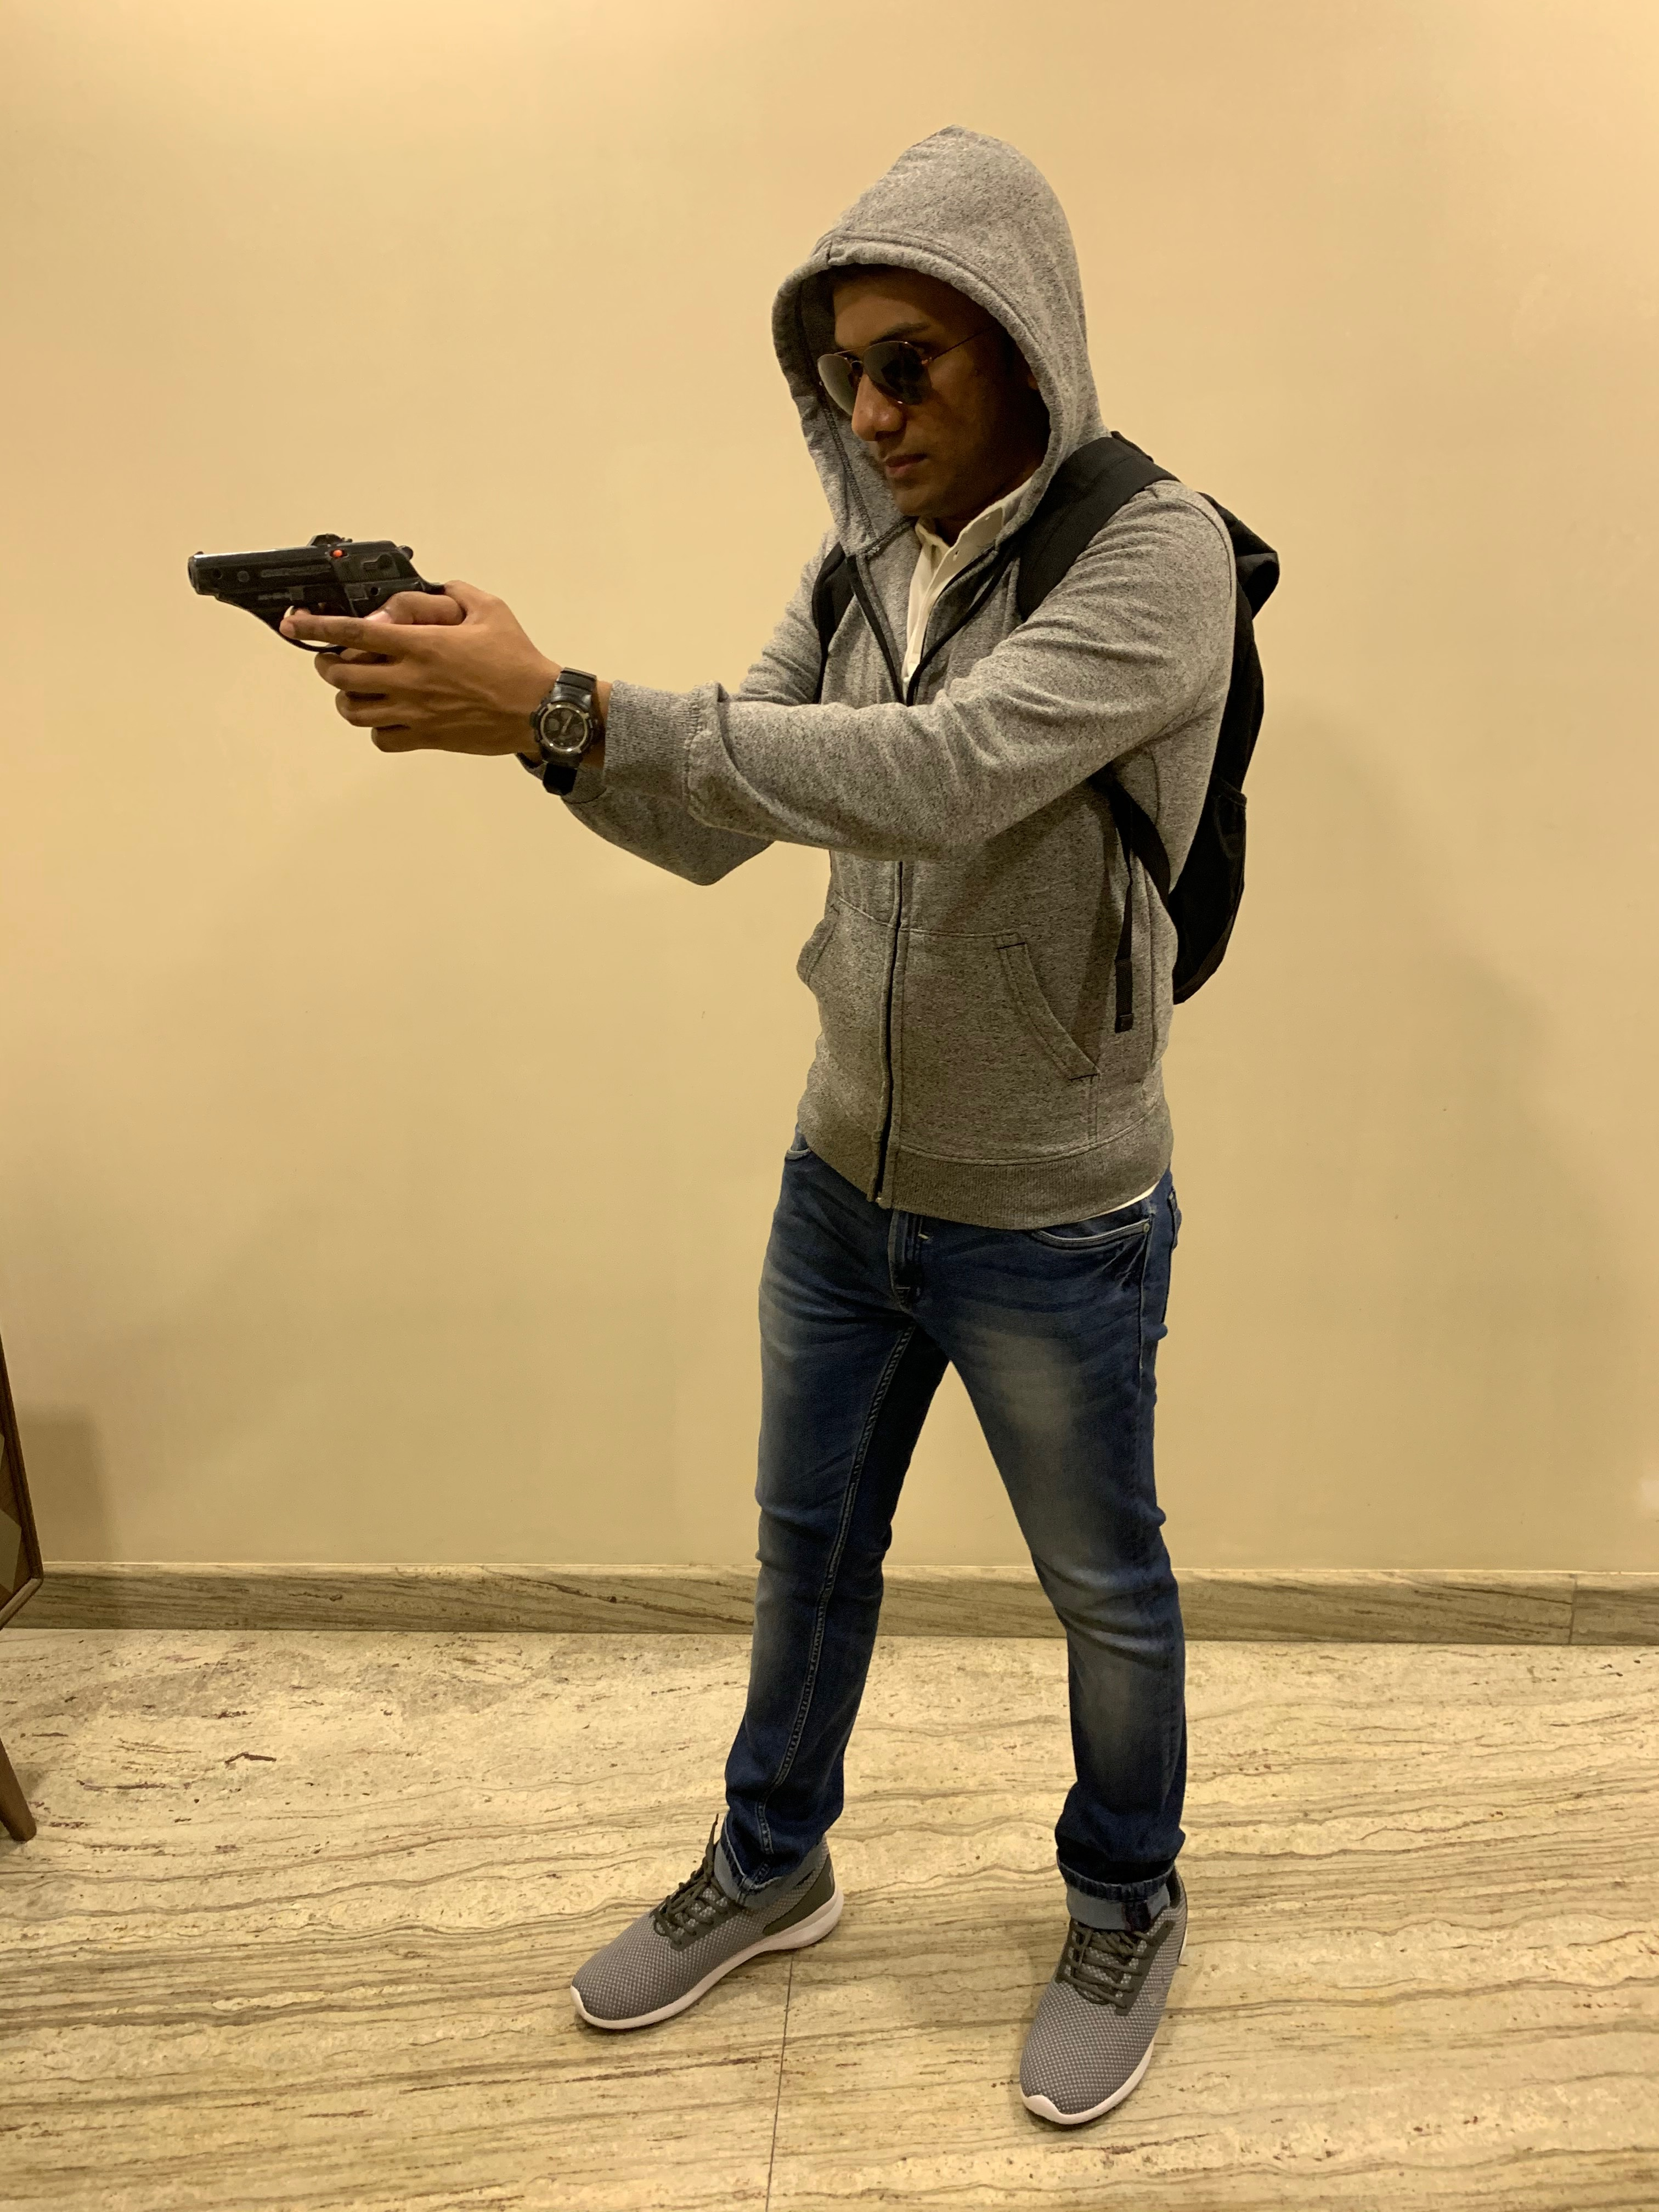gun: (178, 526, 471, 693)
